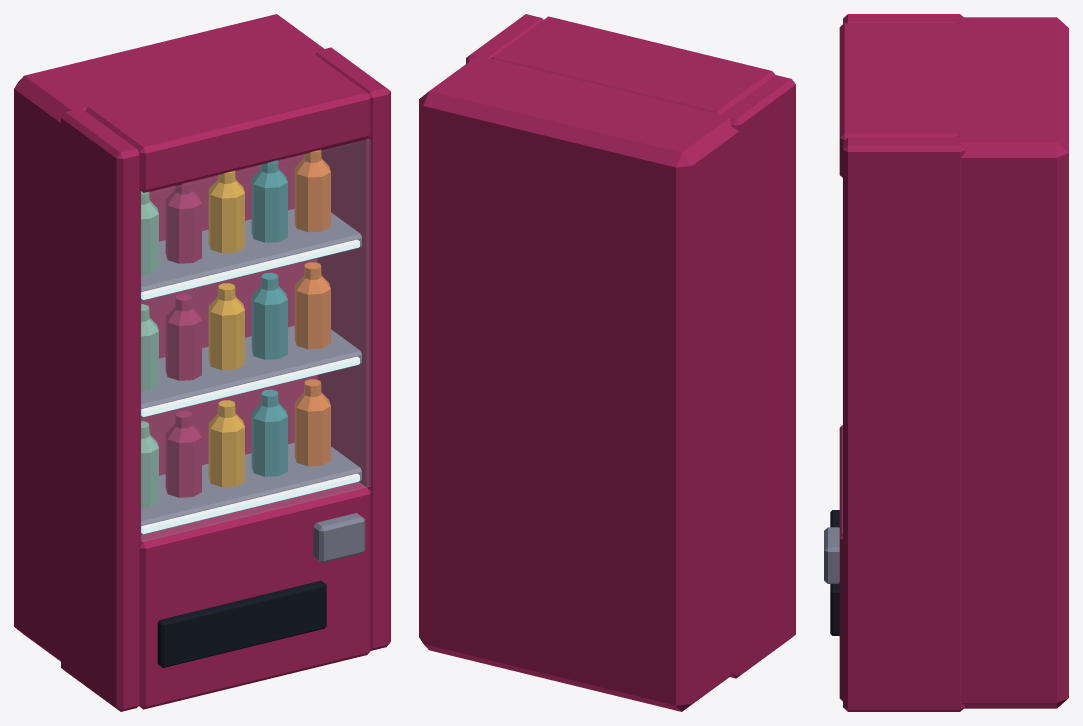
Rendered from vending-machine.glb.
3 views of the same model, side by side, from view 1: azimuth 30°, elevation 25°; view 2: azimuth 150°, elevation 25°; view 3: azimuth 270°, elevation 25° (orthographic).
Visible parts, largest first — view 1: Glass, Cabinet_back, Cabinet_side, Front_fascia, Cabinet_side.001, Front_fascia.001, Pickup_recess, Shelf.001, Shelf.002, Shelf, Drink.006, Drink.001 (+17 smaller); view 2: Cabinet_back, Cabinet_side, Front_fascia.001, Cabinet_side.001; view 3: Cabinet_back, Cabinet_side.001, Front_fascia.001, Front_fascia, Cabinet_side, Payment_terminal, Pickup_recess.
Boxes of the visible parts, x1,y1,x2,y2 form: Glass: [140, 139, 370, 541]; Cabinet_back: [14, 14, 324, 661]; Cabinet_side: [61, 109, 140, 711]; Front_fascia: [139, 482, 371, 709]; Cabinet_side.001: [315, 47, 390, 650]; Front_fascia.001: [85, 52, 371, 192]; Pickup_recess: [157, 580, 326, 667]; Shelf.001: [141, 325, 361, 417]; Shelf.002: [141, 208, 361, 300]; Shelf: [141, 442, 361, 534]; Drink.006: [165, 293, 201, 380]; Drink.001: [165, 410, 201, 497]; Cabinet_back: [419, 55, 739, 711]; Cabinet_side: [721, 75, 795, 678]; Front_fascia.001: [491, 16, 775, 114]; Cabinet_side.001: [466, 14, 543, 63]; Cabinet_back: [957, 17, 1068, 708]; Cabinet_side.001: [843, 137, 965, 711]; Front_fascia.001: [839, 23, 958, 177]; Front_fascia: [839, 425, 842, 701]; Cabinet_side: [843, 14, 963, 23]; Payment_terminal: [824, 527, 839, 583]; Pickup_recess: [830, 510, 839, 635].
Size of the model in its own units: 0.945 by 1.85 by 0.7205.
Materials: 3 (2 with a texture image).
